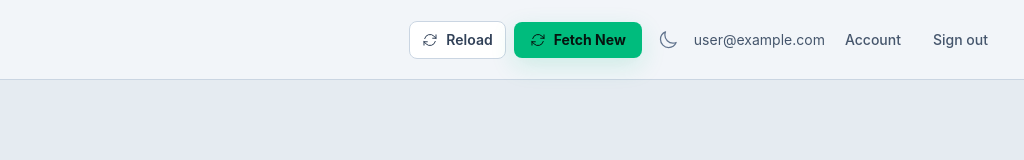
Test: Header refresh controls › keeps the user signed in and offers retry when revocation fails
Click the button "Sign out": (960, 40) [921,22,1000,58]
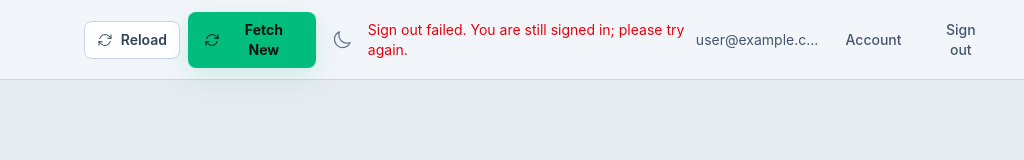
Expected: the text "user@example.com" is shown, [696,30,826,50]
Result: the message reads "Sign out failed. You are still signed in; please try again." at [368,20,684,58]
